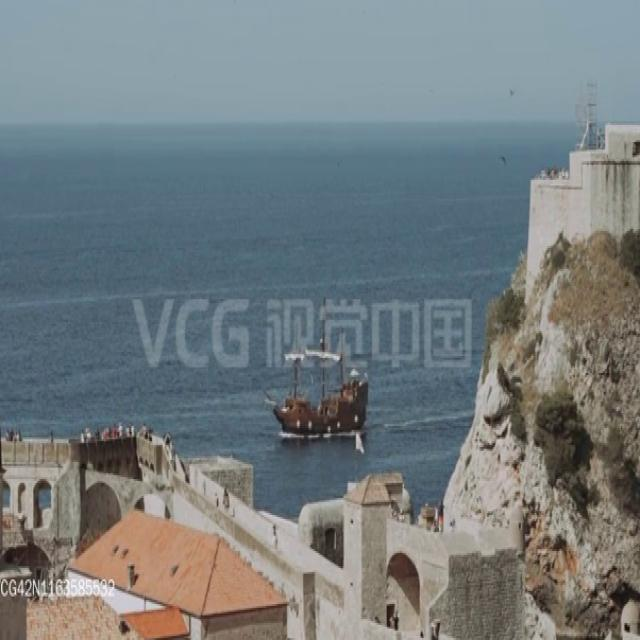sailboat: (264, 300, 364, 441)
